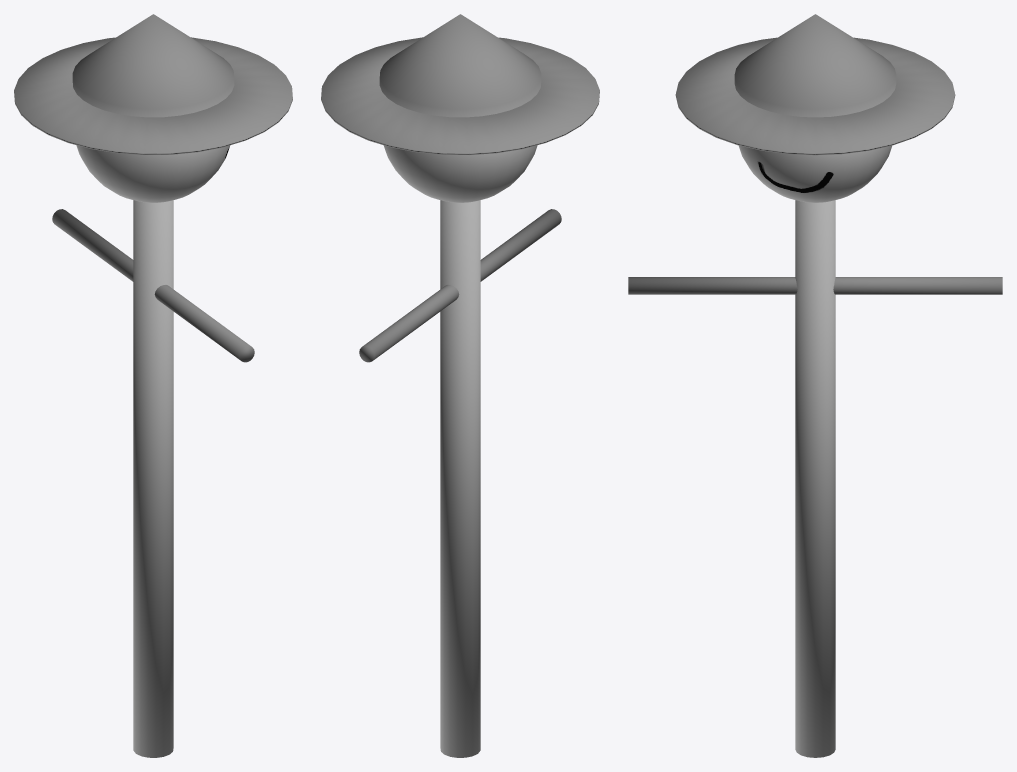
Rendered from placeholder_scarecrow.glb.
3 renders of one model, left to right at view 1: azimuth 30°, elevation 25°; view 2: azimuth 150°, elevation 25°; view 3: azimuth 270°, elevation 25°, orthographic.
Visible parts, largest first — view 1: Cone, Cylinder, Sphere, Cylinder.001; view 2: Cone, Cylinder, Sphere, Cylinder.001; view 3: Cone, Cylinder, Cylinder.001, Sphere.
Boxes of the visible parts, left/top/right/bottom form: Cone: left=14, top=14, right=292, bottom=154; Cylinder: left=133, top=200, right=173, bottom=757; Sphere: left=76, top=145, right=230, bottom=202; Cylinder.001: left=52, top=209, right=254, bottom=362; Cone: left=321, top=14, right=599, bottom=154; Cylinder: left=440, top=200, right=480, bottom=757; Sphere: left=383, top=145, right=537, bottom=202; Cylinder.001: left=359, top=209, right=561, bottom=362; Cone: left=675, top=14, right=955, bottom=155; Cylinder: left=795, top=200, right=835, bottom=757; Cylinder.001: left=628, top=277, right=1002, bottom=294; Sphere: left=739, top=145, right=891, bottom=202.
Bounding box in the file's own units: 3.45 × 10.03 × 4.63.
Materials: 5 (1 with a texture image).
